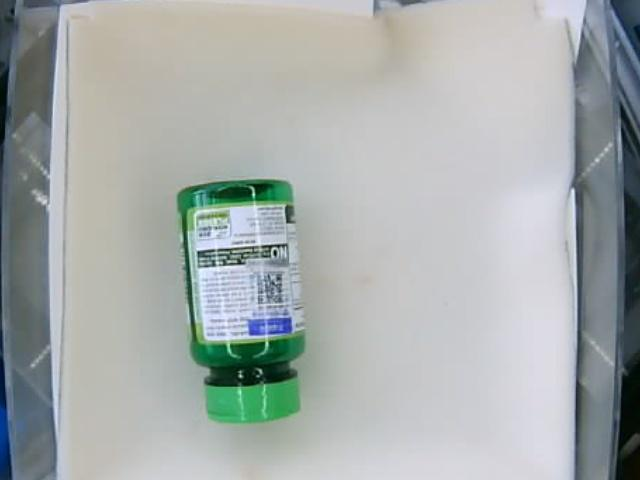Bottle: (174, 177, 303, 422)
